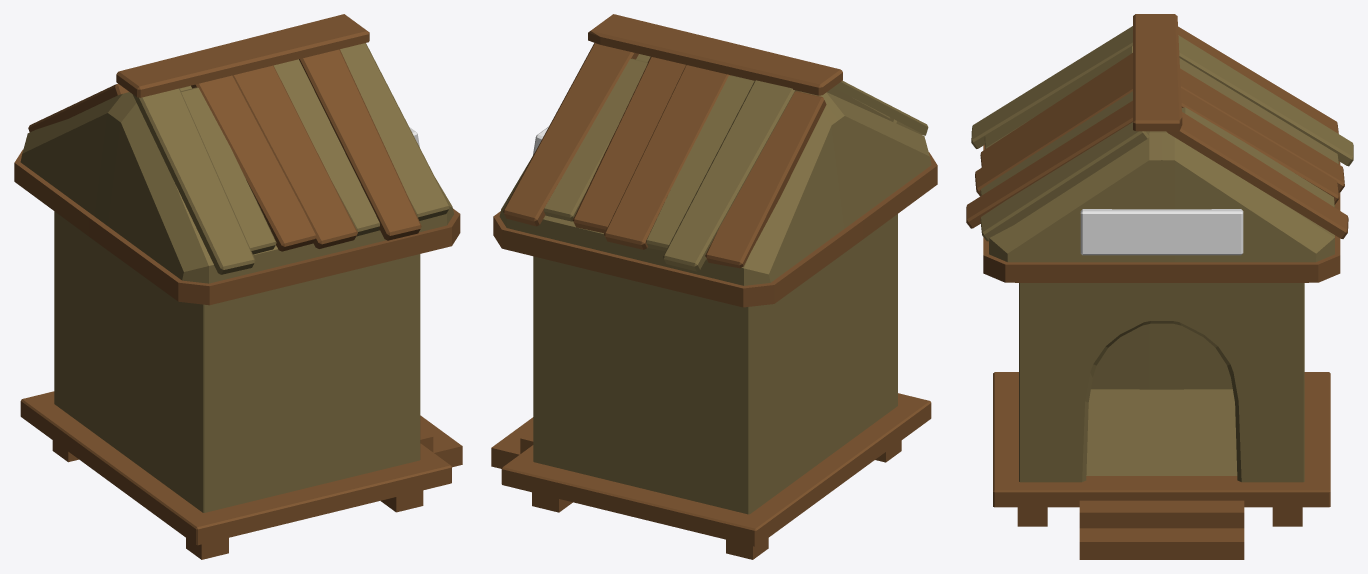
File: mesh_niche.fbx
3 views of the same model, side by side, from view 1: azimuth 30°, elevation 25°; view 2: azimuth 150°, elevation 25°; view 3: azimuth 270°, elevation 25° (orthographic). The views are drawn at different scales.
Parts seen in each view (by area): view 1: Cube.003; view 2: Cube.003; view 3: Cube.003.
Part boxes in pixels (<box>): Cube.003: <box>14,14,462,559</box>; Cube.003: <box>491,14,937,559</box>; Cube.003: <box>966,14,1353,559</box>.
Bounding box in the file's own units: 470 × 595 × 511.
